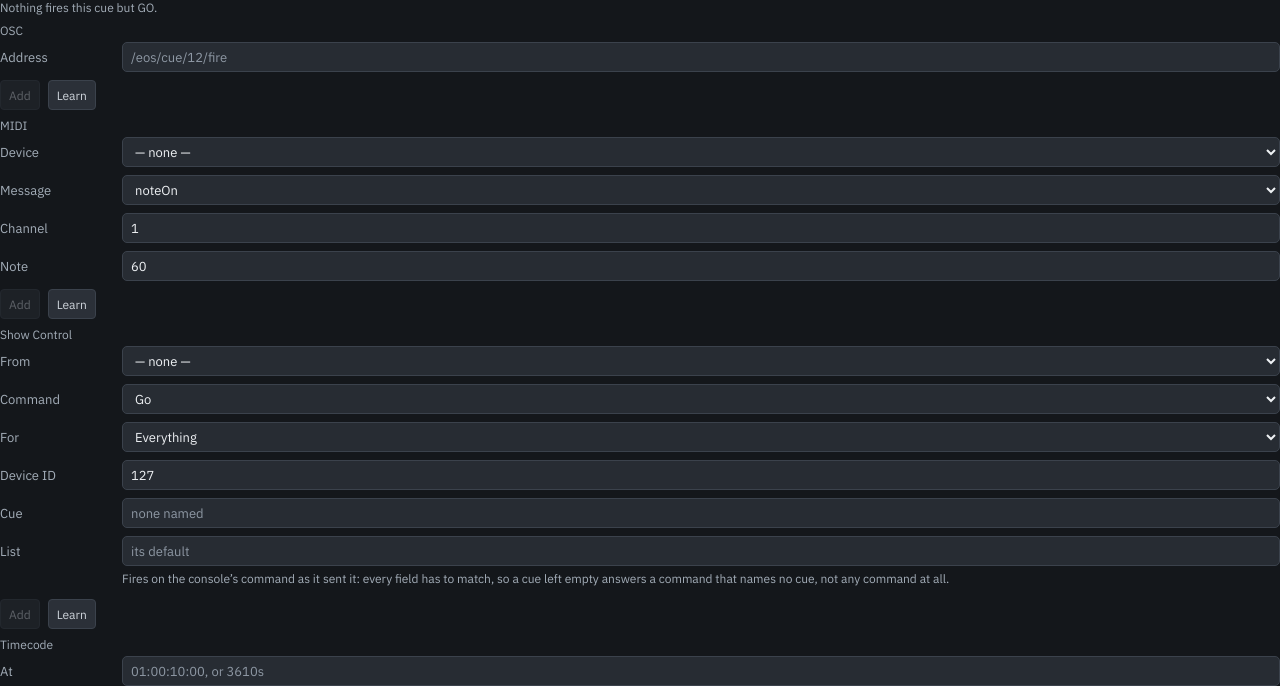
Test case: Triggers › stops capturing once learning is cancelled
What coordinates should you click on to do the following:
click the button with class "trigger-learn" below "Address"
I would click on:
 (72, 95)
Its box is [48,80,96,110].
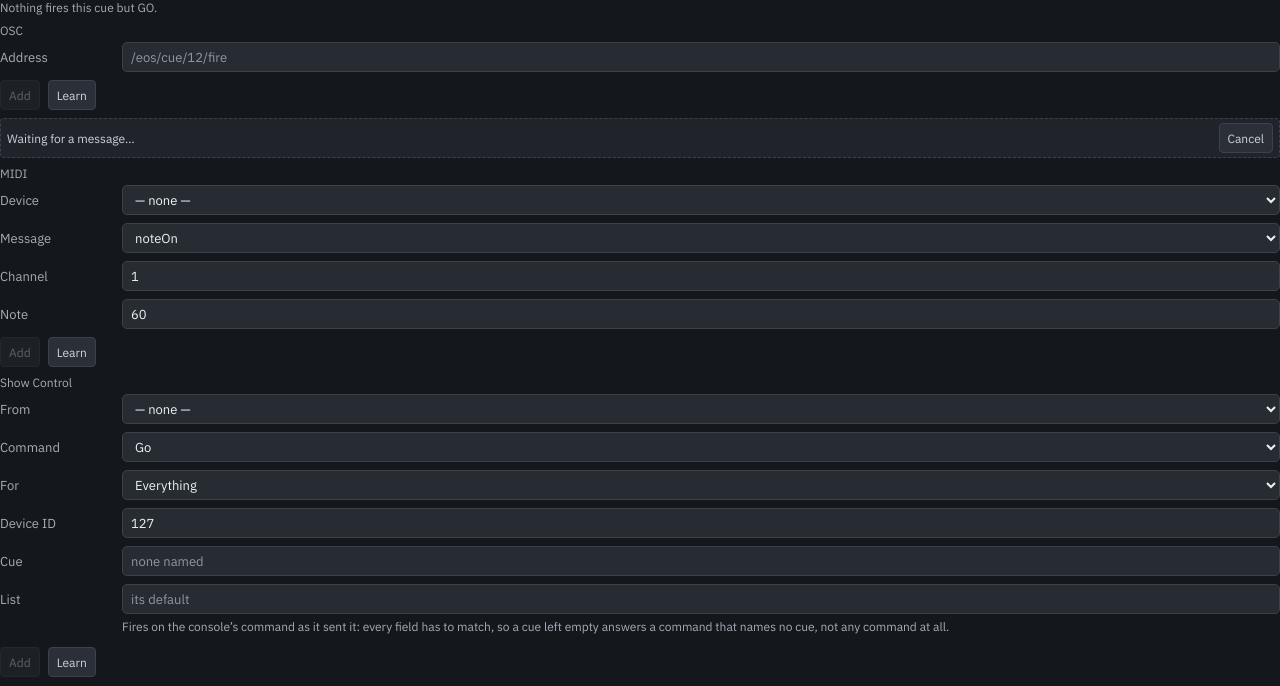
What coordinates should you click on to do the following:
click the button with class "trigger-learn-cancel"
I would click on:
 (1246, 138)
Its box is [1218,123,1273,153].
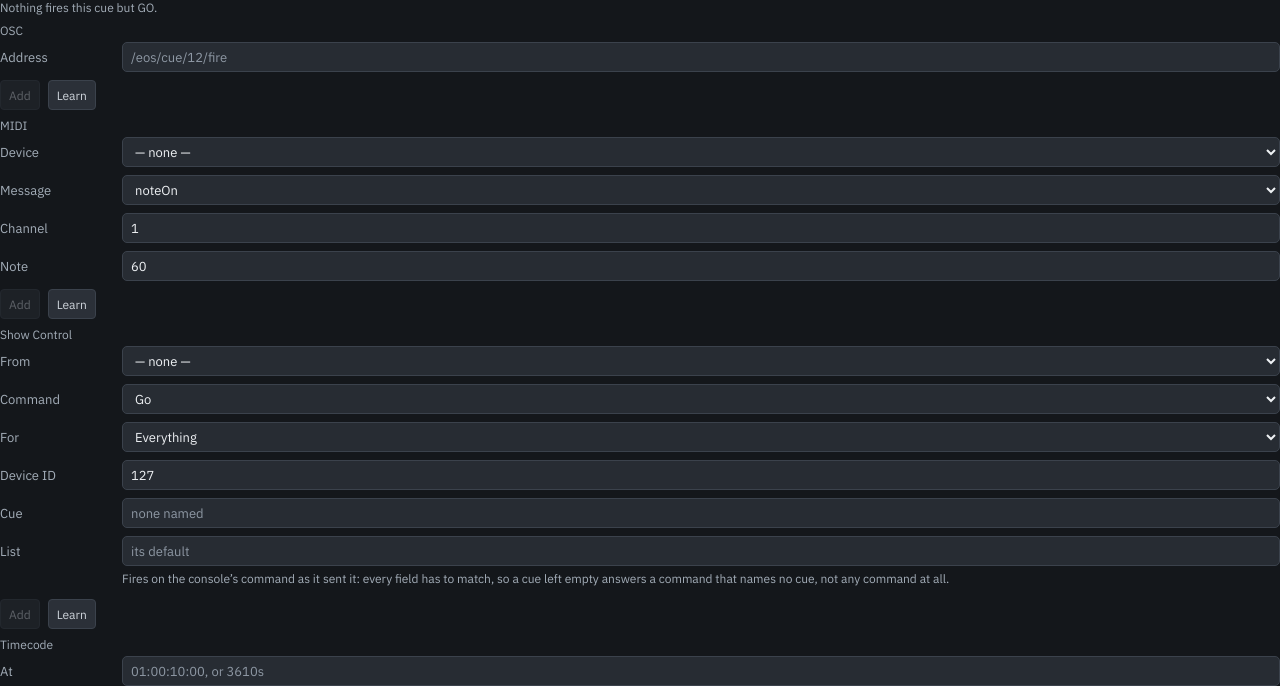
Now the element with class "trigger-learning" is gone
